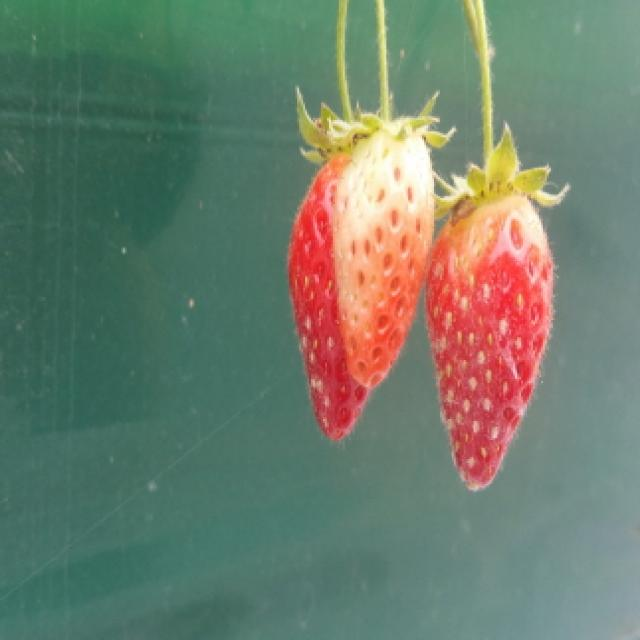Powdery Mildew Fruit: (289, 129, 437, 439), (423, 185, 555, 493)
